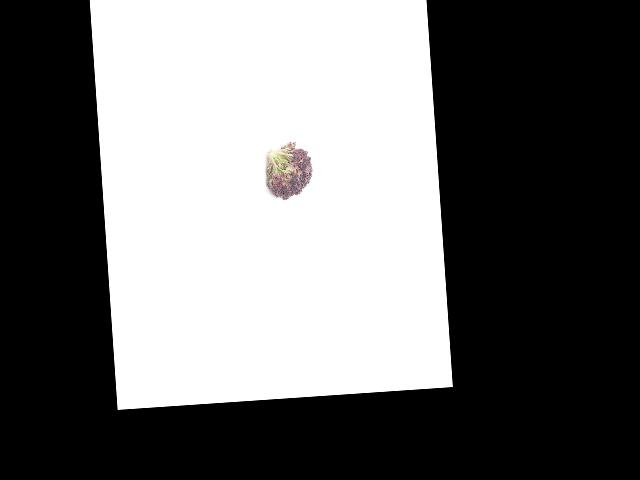lettuce: (260, 143, 316, 203)
